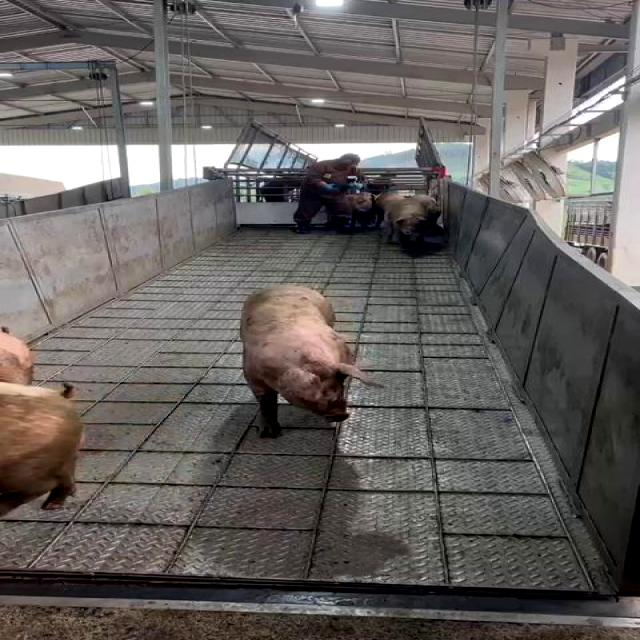pig: (241, 286, 377, 435), (1, 383, 81, 515)
